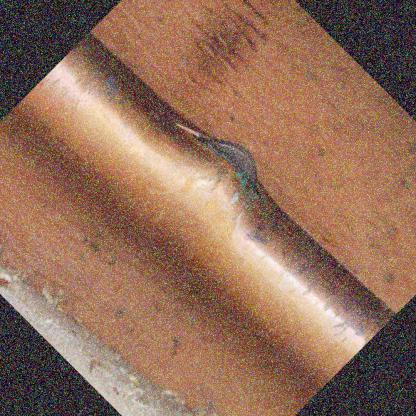burst: (183, 120, 281, 210)
